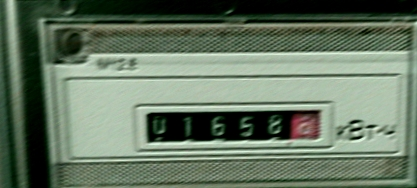0: (150, 113, 167, 135)
1: (180, 113, 194, 138)
5: (238, 113, 254, 138)
6: (209, 113, 227, 138)
8: (266, 112, 283, 135)
9: (295, 120, 312, 141)
screen: (130, 94, 338, 158)
